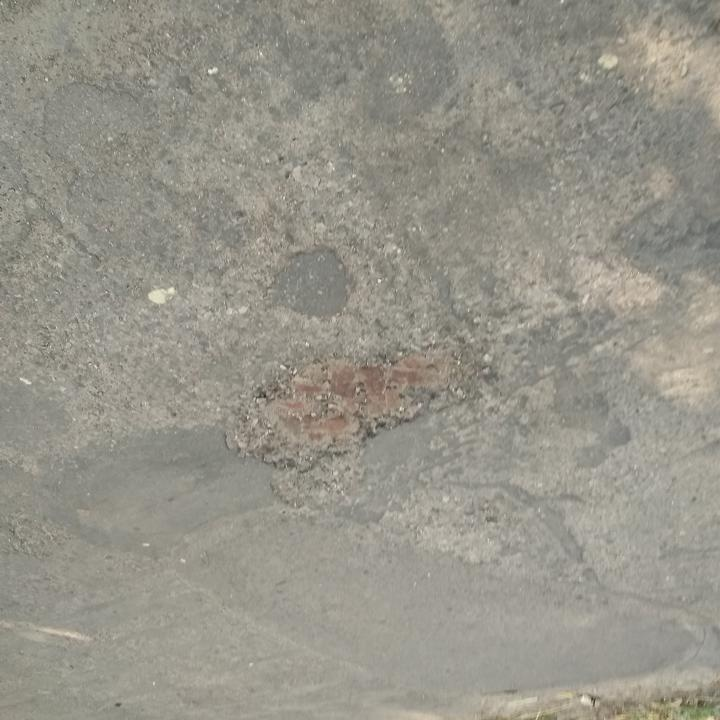pothole: (220, 333, 480, 474)
